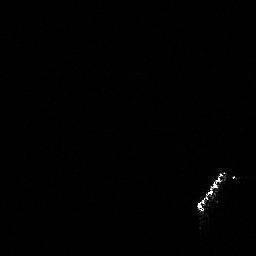ship: (196, 173, 238, 218)
